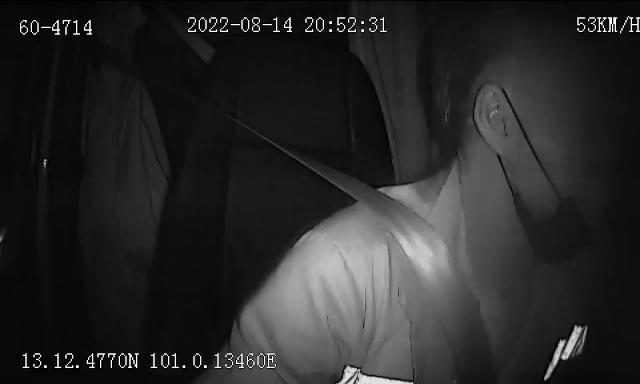Seatbelt: (262, 134, 498, 384)
